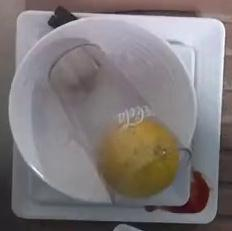fruit: (98, 106, 190, 205)
